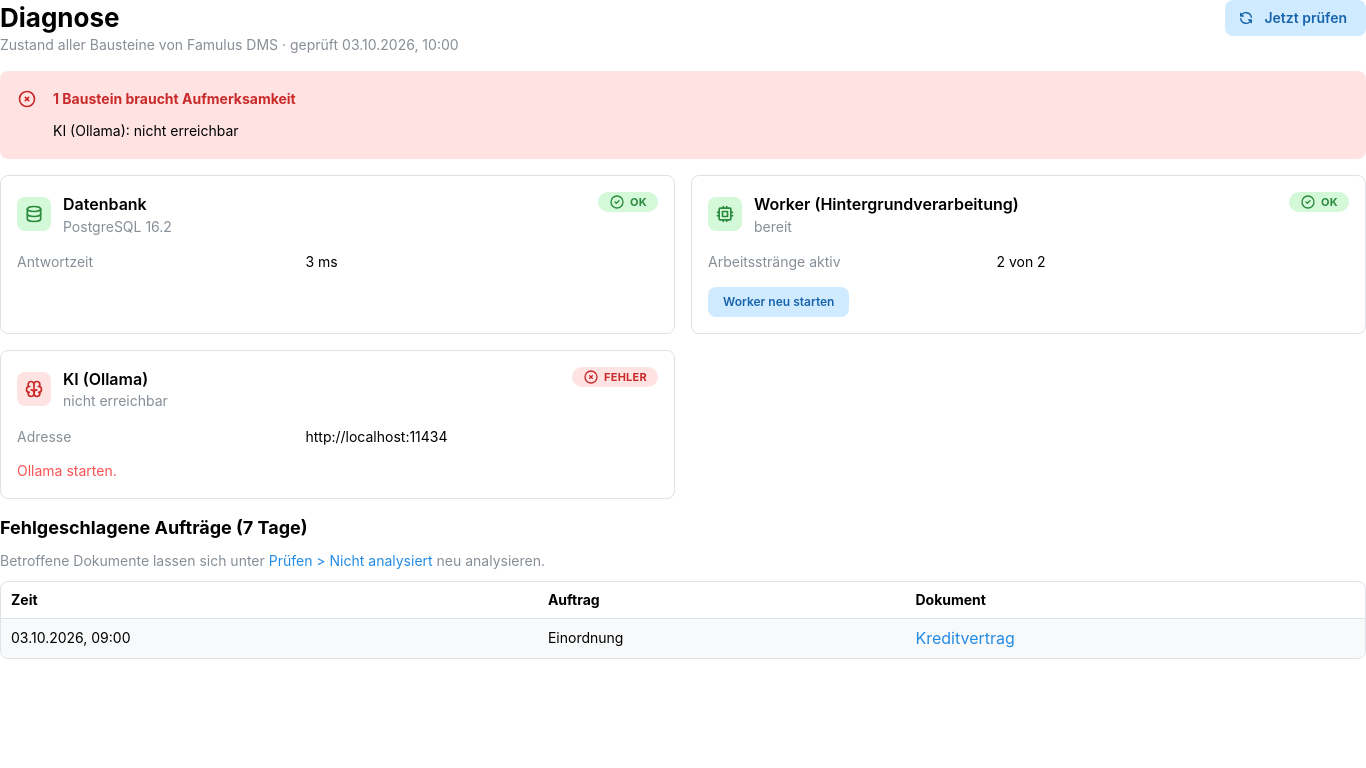
Test: DiagnosePage › zeigt den Zustand aller Bausteine und startet den Worker erst nach Rückfrage neu
Check: the text "1 Baustein braucht Aufmerksamkeit" is shown, box [53,88,296,110]
Check: the text "Fehler" is shown, box [604,368,647,386]
Click the button "Worker neu starten": (779, 302) [708,286,850,316]
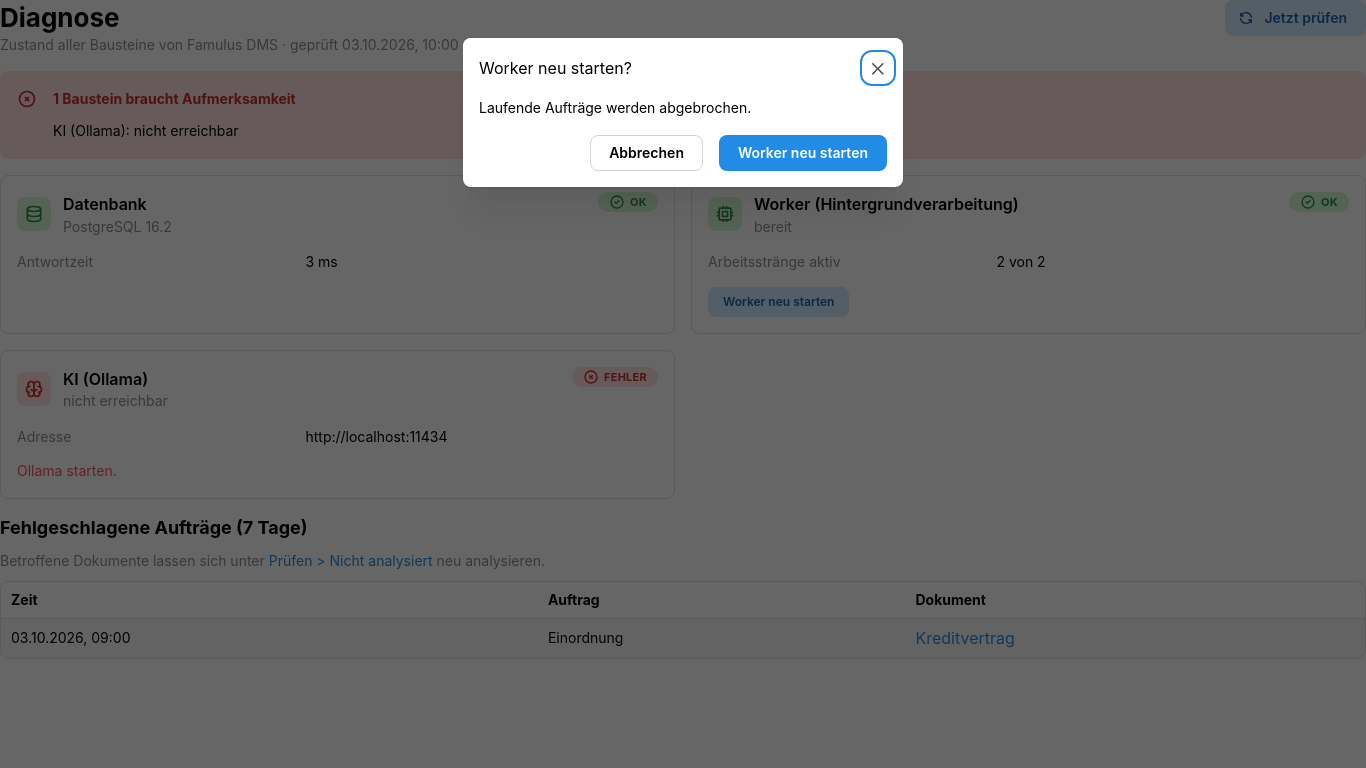
Check: the text "Laufende Aufträge werden abgebrochen." is shown, box [479,99,751,116]
Click the button "Worker neu starten": (803, 153) [719,135,887,171]
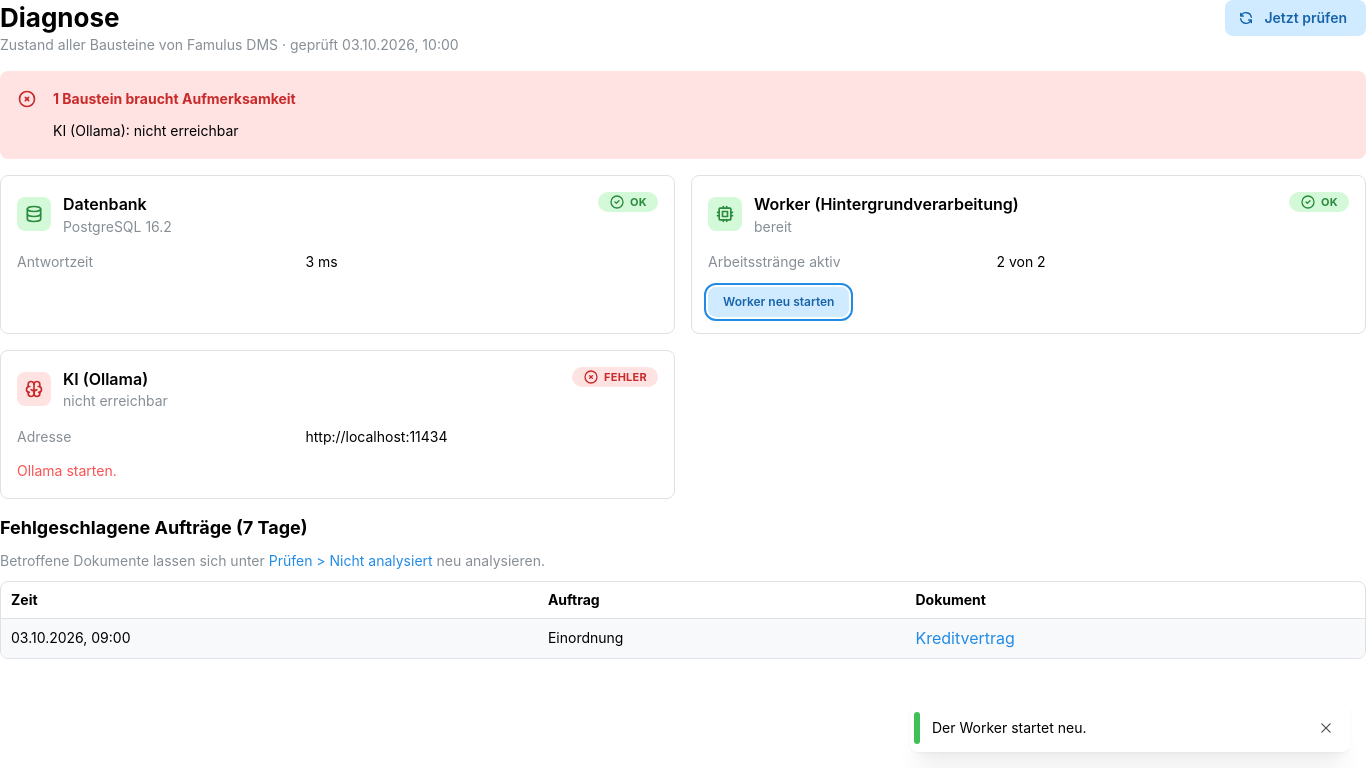
Check: the text "Der Worker startet neu." is shown, box [932,719,1086,736]
